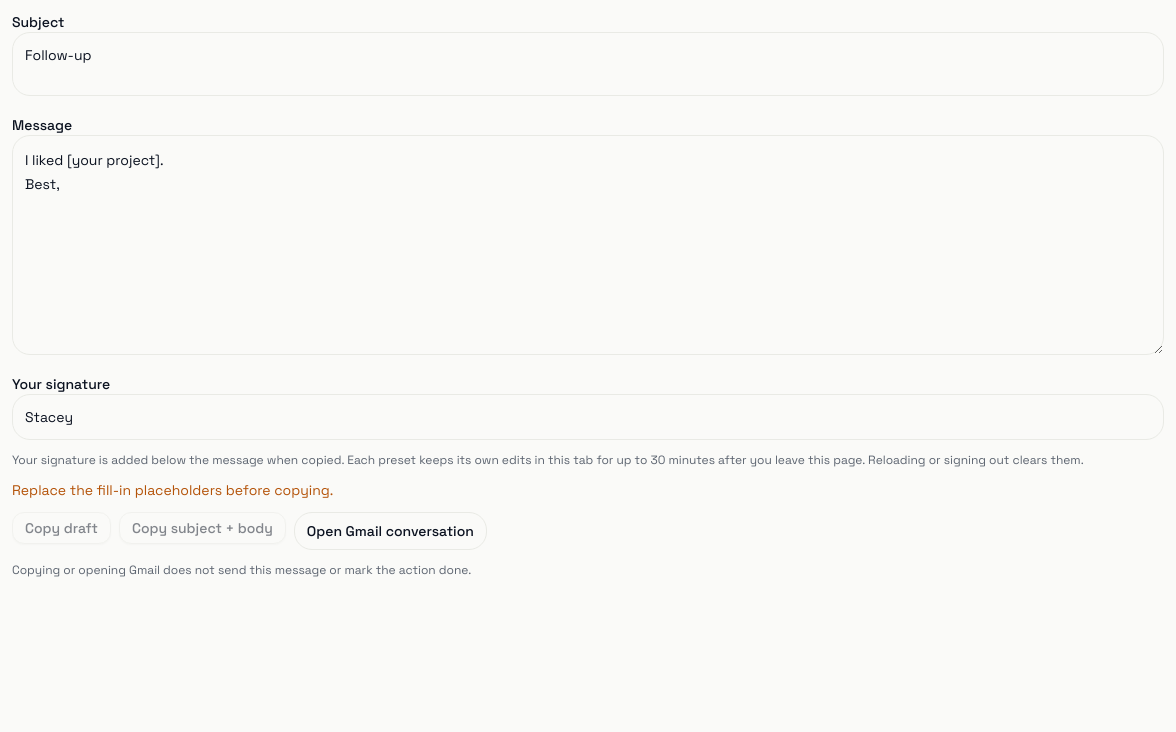
fill-in placeholders and empty messages block copy
Check: the button "Copy draft" is disabled, box 12,512 -> 111,544
Clear the text box labelled "Message": [588, 245] box 12,135 -> 1164,355
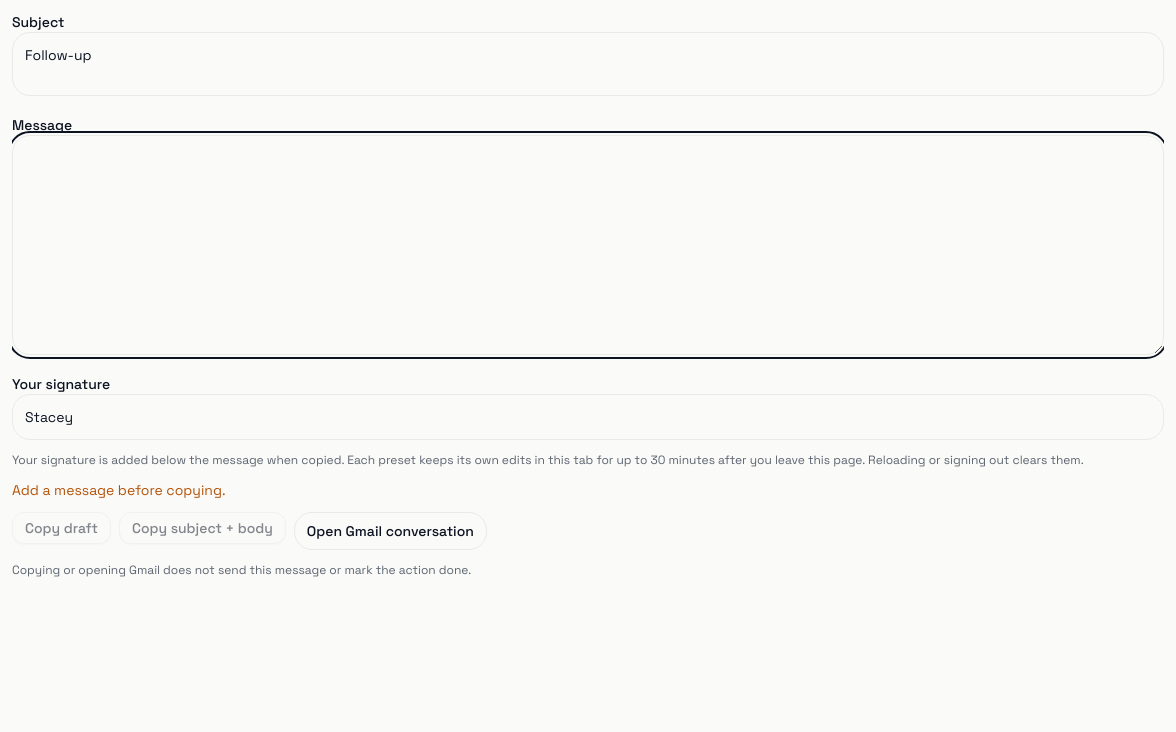
Check: the text "Add a message before copying." is shown, box 12,481 -> 226,499
